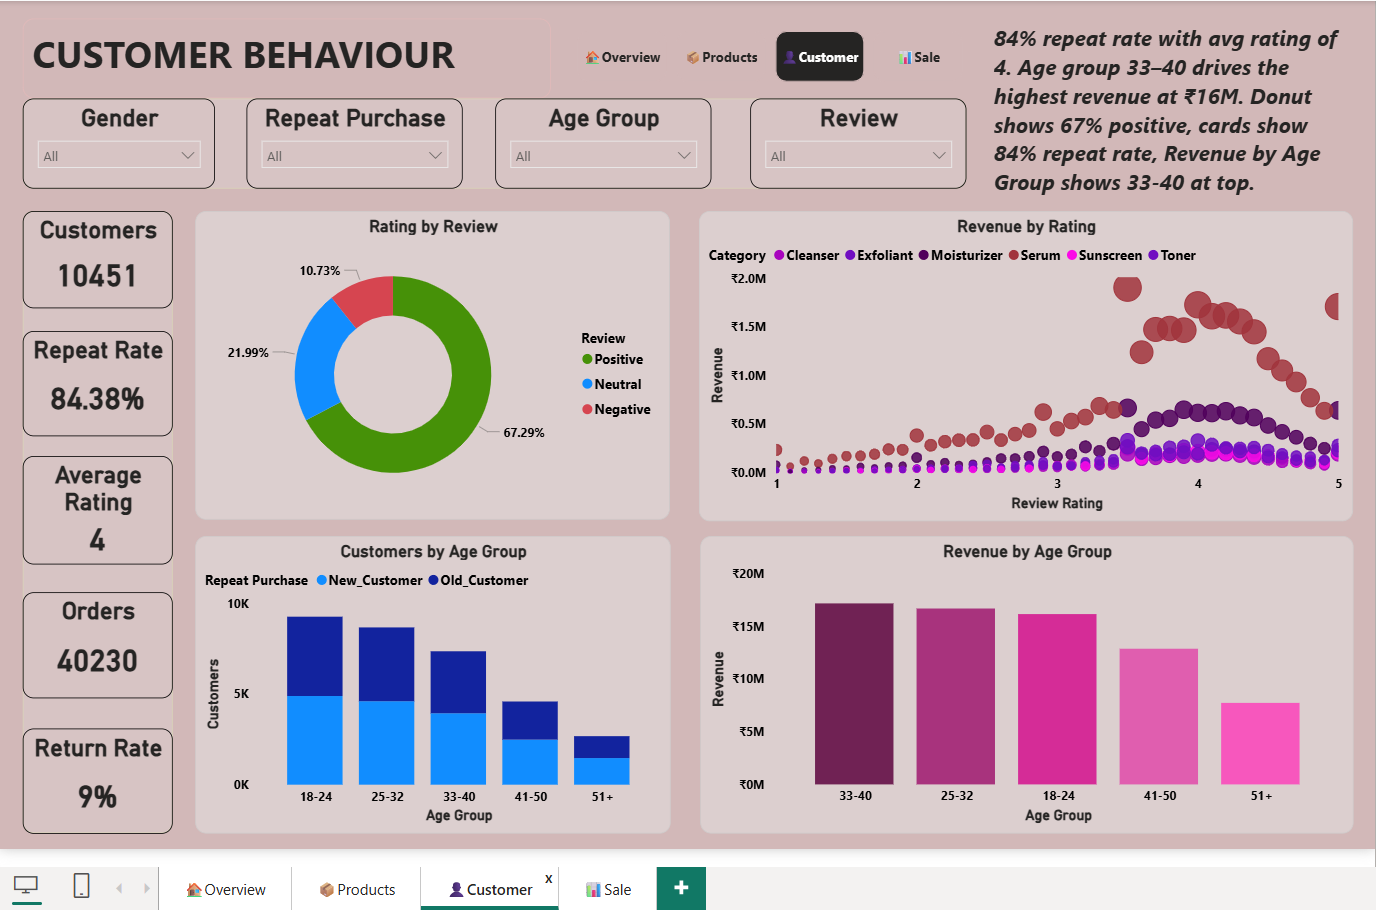

The page's visual inventory and layout, read from the dashboard file:
{"tool":"powerbi","page":{"name":"👤Customer","canvas":[1380,850],"ordinal":2},"visuals":[{"type":"shape","box":[23.8,210.6,150.4,624.3],"z":0},{"type":"clusteredColumnChart","title":"Revenue by Age Group","fields":{"Y":["Measure_Analysis.Revenue"],"Category":["Skincare.age_bracket"]},"box":[703.3,536.7,655,298.3],"z":1000},{"type":"donutChart","title":"Rating by Review","fields":{"Category":["Skincare.review_sentiment"],"Y":["CountNonNull(Skincare.review_rating)"]},"box":[196.8,210.6,476.4,309.6],"z":2000},{"type":"scatterChart","title":"Revenue by Rating","fields":{"X":["Skincare.review_rating"],"Y":["Measure_Analysis.Revenue"],"Size":["Sum(Skincare.units_sold)"],"Series":["Skincare.category"]},"box":[702,210.6,655.7,310.9],"z":3000},{"type":"columnChart","title":"Customers by Age Group","fields":{"Category":["Skincare.age_bracket"],"Y":["Measure_Analysis.Customers"],"Series":["Skincare.repeat_purchase"]},"box":[196.7,536.7,476.7,298.3],"z":4000},{"type":"card","title":"Return Rate","fields":{"Values":["Measure_Analysis.Returns rate"]},"box":[23.8,729.6,150.4,105.3],"z":5000},{"type":"card","title":"Orders","fields":{"Values":["Measure_Analysis.Orders"]},"box":[23.8,593,150.4,106.6],"z":6000},{"type":"card","title":"Average Rating","fields":{"Values":["Avg(Skincare.review_rating)"]},"box":[23.8,456.3,150.4,109.1],"z":7000},{"type":"card","title":"Repeat Rate","fields":{"Values":["Measure_Analysis.Repeat"]},"box":[23.8,331,150.4,105.3],"z":8000},{"type":"card","title":"Customers","fields":{"Values":["Measure_Analysis.Customers"]},"box":[23.8,210.6,150.4,97.8],"z":9000},{"type":"textbox","box":[23.7,17.2,529.5,79.6],"z":10000},{"type":"shape","box":[23.8,97.8,946.5,90.3],"z":11000},{"type":"slicer","title":"Gender","fields":{"Values":["Skincare.city_tier"]},"box":[23.8,97.8,193.1,90.3],"z":12000},{"type":"slicer","title":"Repeat Purchase","fields":{"Values":["Skincare.hero_ingredient"]},"box":[248.2,97.8,216.9,90.3],"z":13000},{"type":"pageNavigator","box":[580.4,30.1,389.9,51.4],"z":14000},{"type":"textbox","box":[992.9,17.6,363.6,193.1],"z":15000},{"type":"slicer","title":"Age Group","fields":{"Values":["Skincare.skin_type_target"]},"box":[497.7,97.8,216.9,90.3],"z":16000},{"type":"slicer","title":"Review","fields":{"Values":["Skincare.review_sentiment"]},"box":[753.4,97.8,216.9,90.3],"z":17000}]}

Visuals, with their boxes on the page's 1380x850 design canvas (x1, y1, x2, y2). These are canvas units, not pixel positions in the 1376x910 screenshot, which may show the page scaled, cropped or inside an application window:
shape: (24, 211, 174, 835)
"Revenue by Age Group" clusteredColumnChart: (703, 537, 1358, 835)
"Rating by Review" donutChart: (197, 211, 673, 520)
"Revenue by Rating" scatterChart: (702, 211, 1358, 522)
"Customers by Age Group" columnChart: (197, 537, 673, 835)
"Return Rate" card: (24, 730, 174, 835)
"Orders" card: (24, 593, 174, 700)
"Average Rating" card: (24, 456, 174, 565)
"Repeat Rate" card: (24, 331, 174, 436)
"Customers" card: (24, 211, 174, 308)
textbox: (24, 17, 553, 97)
shape: (24, 98, 970, 188)
"Gender" slicer: (24, 98, 217, 188)
"Repeat Purchase" slicer: (248, 98, 465, 188)
pageNavigator: (580, 30, 970, 82)
textbox: (993, 18, 1356, 211)
"Age Group" slicer: (498, 98, 715, 188)
"Review" slicer: (753, 98, 970, 188)
